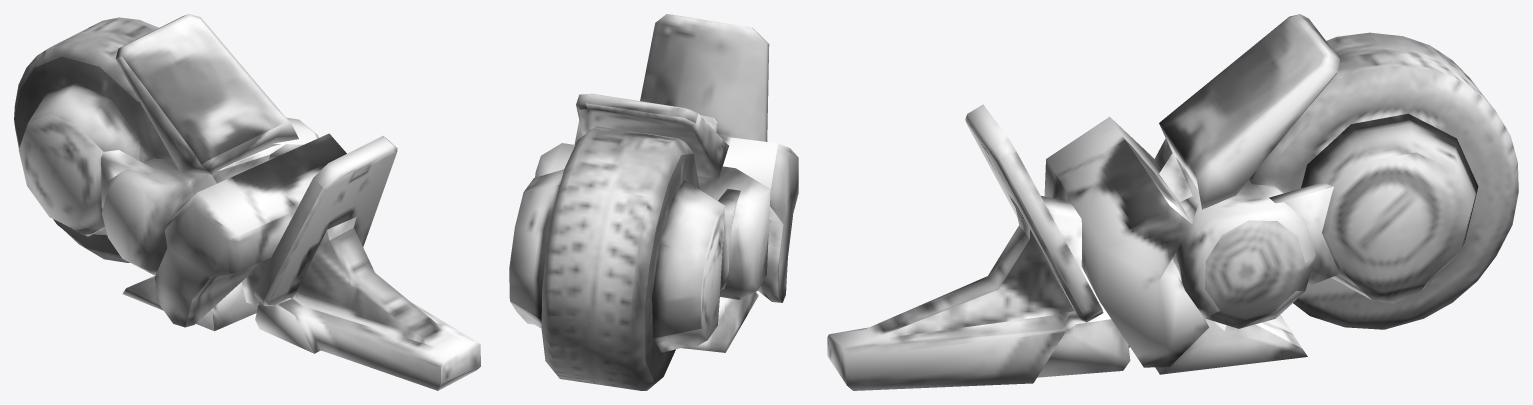
Rendered from l_foot.glb.
3 renders of one model, left to right at view 1: azimuth 30°, elevation 25°; view 2: azimuth 150°, elevation 25°; view 3: azimuth 270°, elevation 25°, orthographic. The views are drawn at different scales.
Visible parts, largest first — view 1: l_foot; view 2: l_foot; view 3: l_foot.
Boxes of the visible parts, x1,y1,x2,y2 form: l_foot: (14, 14, 480, 390); l_foot: (509, 14, 798, 390); l_foot: (827, 14, 1518, 390).
Size of the model in its own units: 0.5997 by 0.5947 by 1.3.
3 materials, 3 textured.
